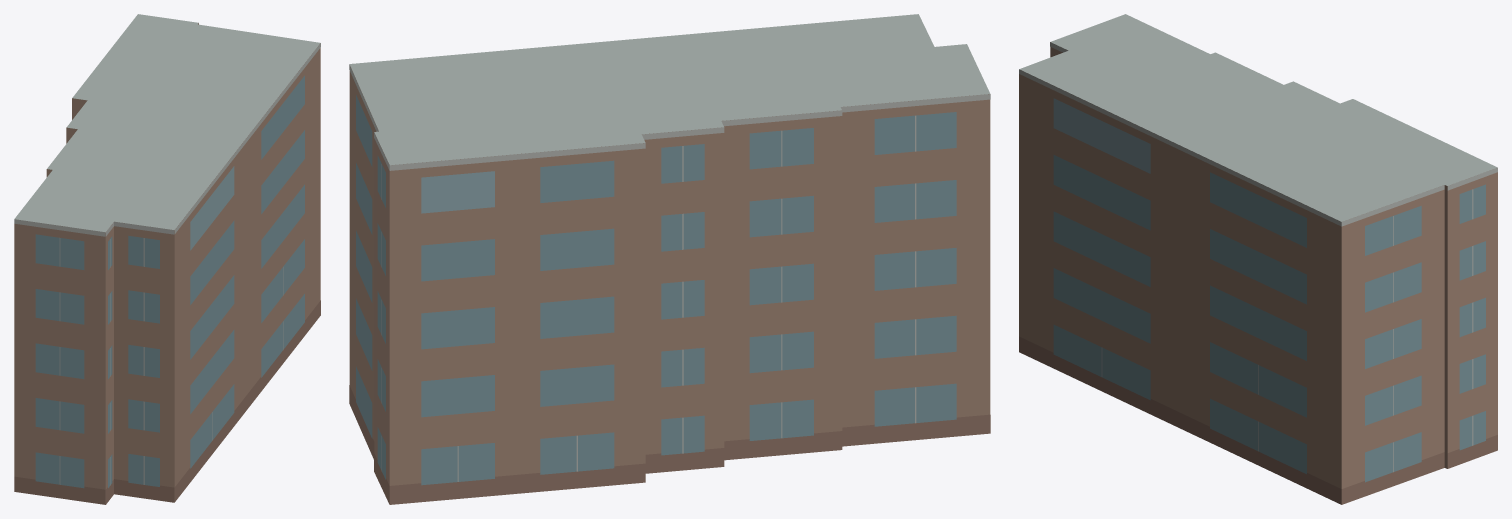
File: survey-upis-32941424.glb
3 views of the same model, side by side, from view 1: azimuth 30°, elevation 25°; view 2: azimuth 150°, elevation 25°; view 3: azimuth 270°, elevation 25° (orthographic). The views are drawn at different scales.
Visible parts, largest first — view 1: survey-upis-32941424.tmp; view 2: survey-upis-32941424.tmp; view 3: survey-upis-32941424.tmp.
Boxes of the visible parts, x1=… form: survey-upis-32941424.tmp: x1=14, y1=14, x2=320, y2=504; survey-upis-32941424.tmp: x1=349, y1=14, x2=990, y2=504; survey-upis-32941424.tmp: x1=1019, y1=14, x2=1497, y2=504.
Bounding box in the file's own units: 23.17 × 14.7 × 22.54.
